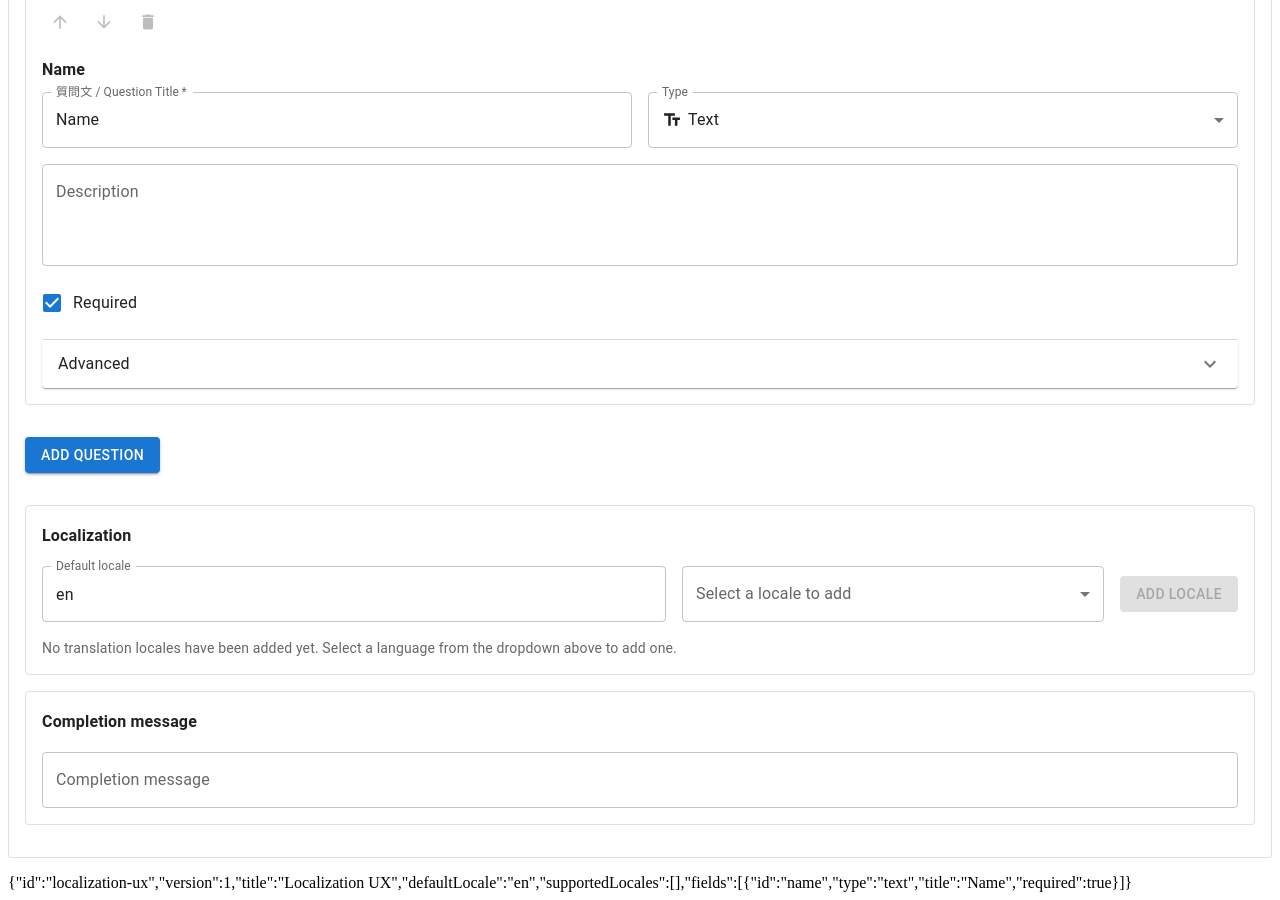
Test case: MUI localization UX › intersects availableLocales with policy.allowedLocales
(page scrolled)
What coordinates should you click on to do the following:
click the dropdown named "Select a locale to add"
I would click on:
 (893, 594)
Its box is top-left (682, 566), bottom-right (1104, 622).
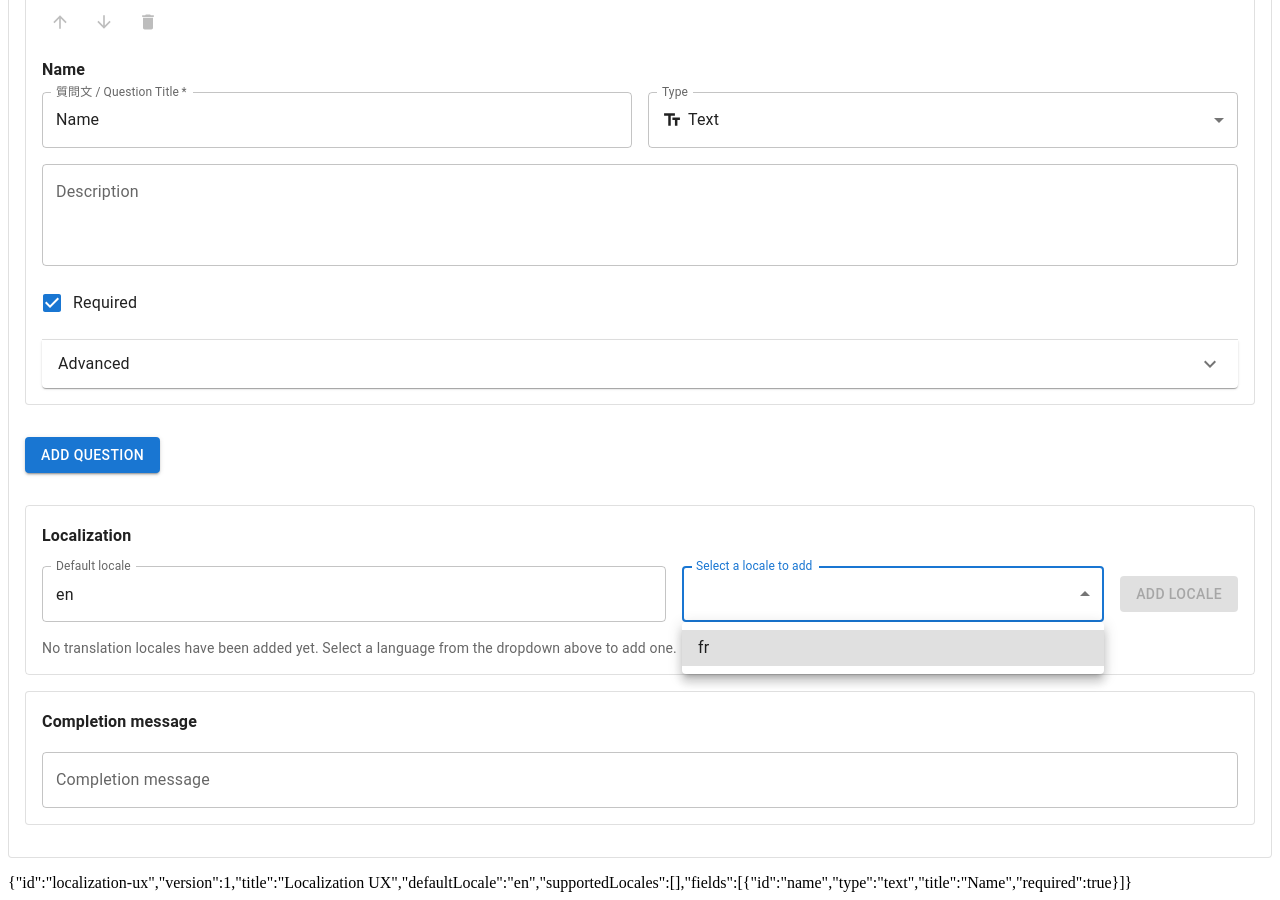
Expected: the option "fr" is shown, top-left (682, 630), bottom-right (1104, 666)
